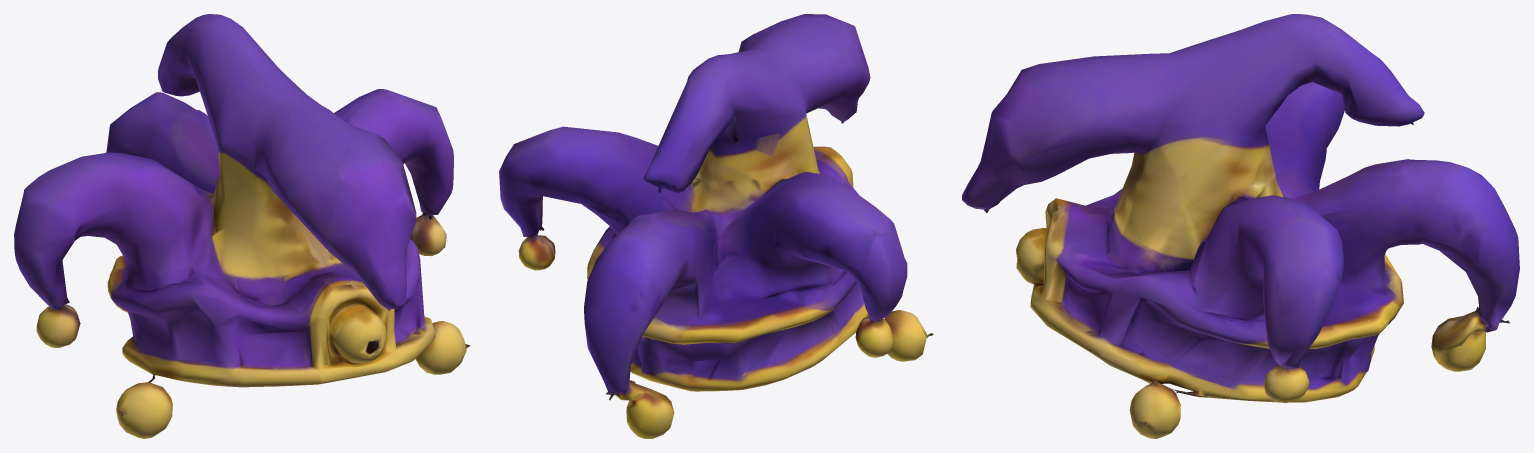
File: jester_cap.glb
3 renders of one model, left to right at view 1: azimuth 30°, elevation 25°; view 2: azimuth 150°, elevation 25°; view 3: azimuth 270°, elevation 25°, orthographic. The views are drawn at different scales.
Bounding box in the file's own units: 1.82 × 1.41 × 2.
1 material, 1 textured.
